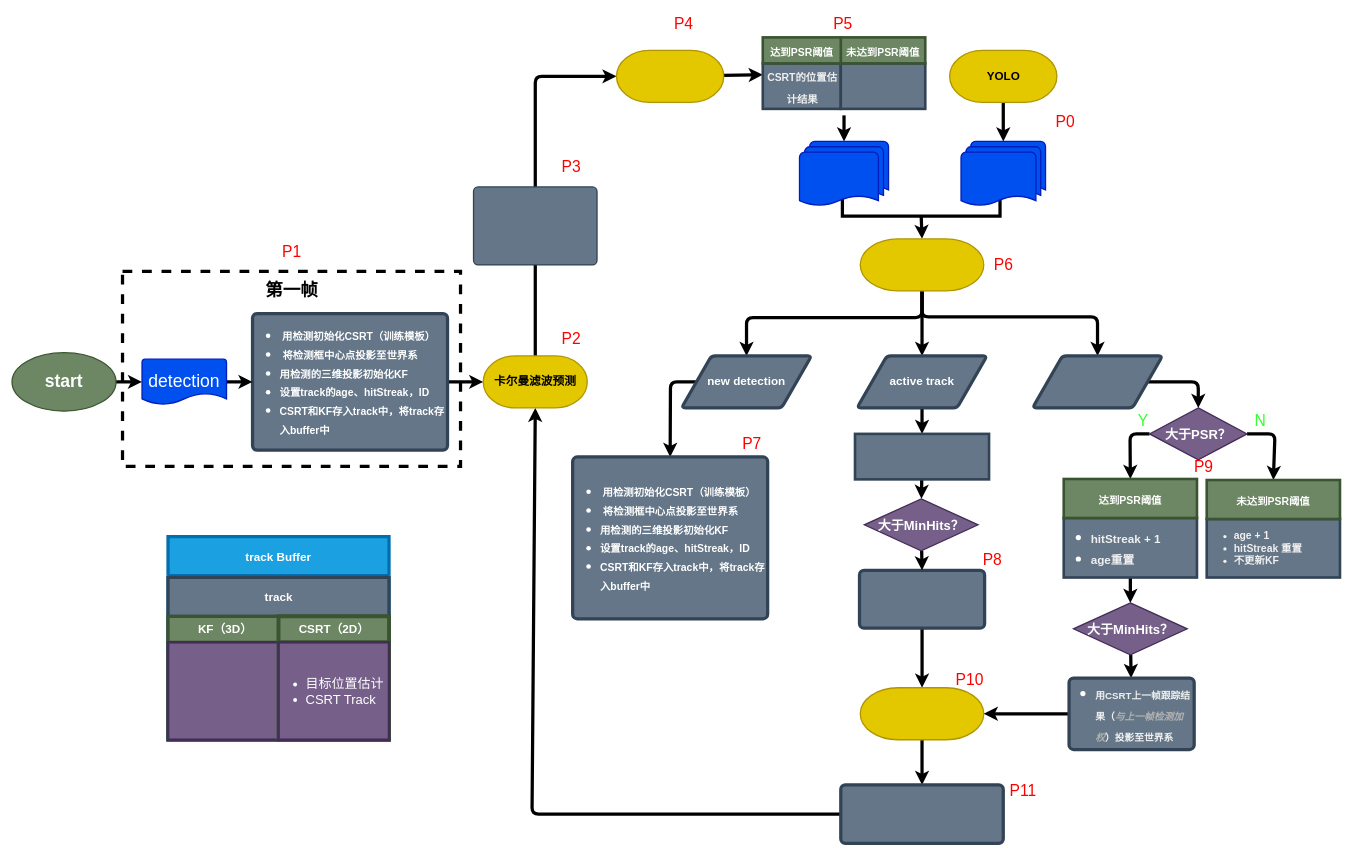
Some shapes in this 1352 by 856 pixel diagram are drawn without their labels. Here are the shapes that lost their labels. From the top down, the centre of each, then its label:
point (670, 76): CSRT更新
point (882, 86): KF预测值反投影得到的搜索区域
point (844, 173): tracks
point (1003, 173): detections
point (535, 225): 将卡尔曼滤波的预测反投影至图像系，生成搜索区域
point (921, 264): 匈牙利匹配
point (1097, 381): inactive track
point (921, 456): hitStreak + 1，age重置
point (922, 599): 将检测投影至世界系
point (223, 691): 三维预测 反投影 KF Track
point (921, 713): 卡尔曼滤波更新
point (922, 814): 删除age大于maxAge的Track
